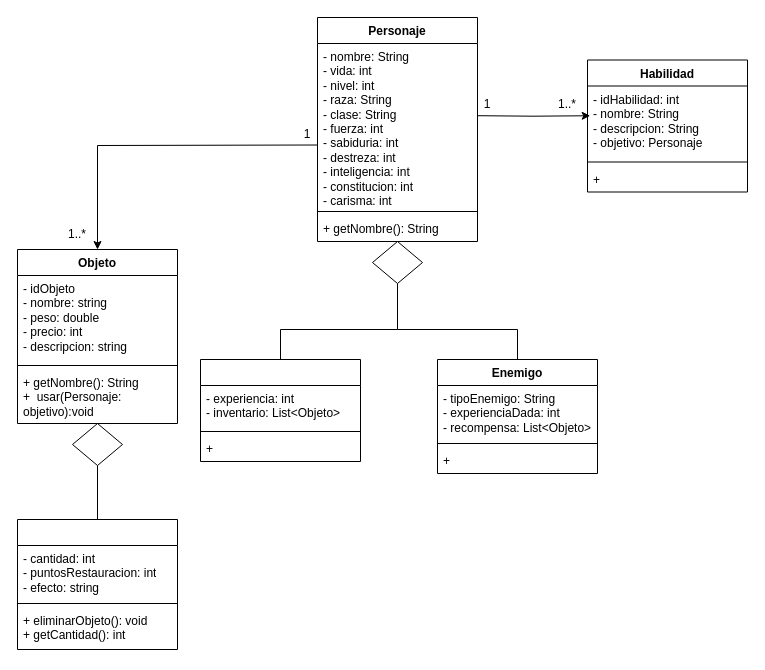
Image size: 765x670. Some labels were removed from this diagram. Here are the shapes that lost their labels. From the top down, the box of each, then its label:
(200, 358, 360, 462): Heroe
(16, 518, 178, 650): Consumible
